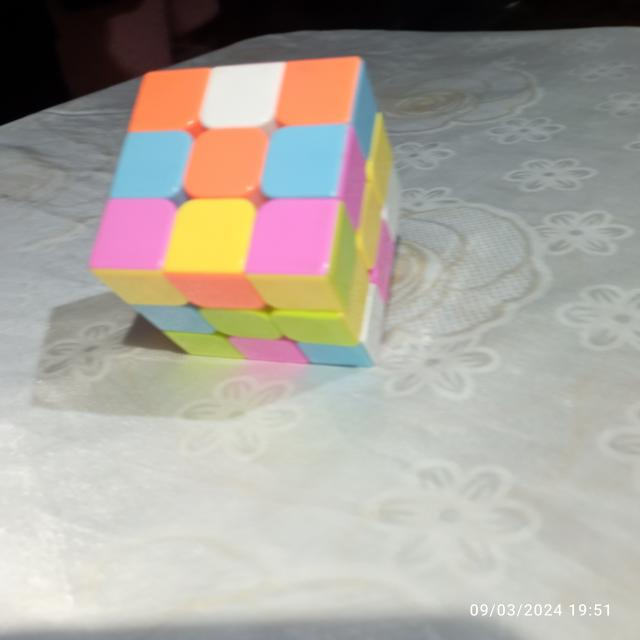Rub: (81, 49, 406, 366)
